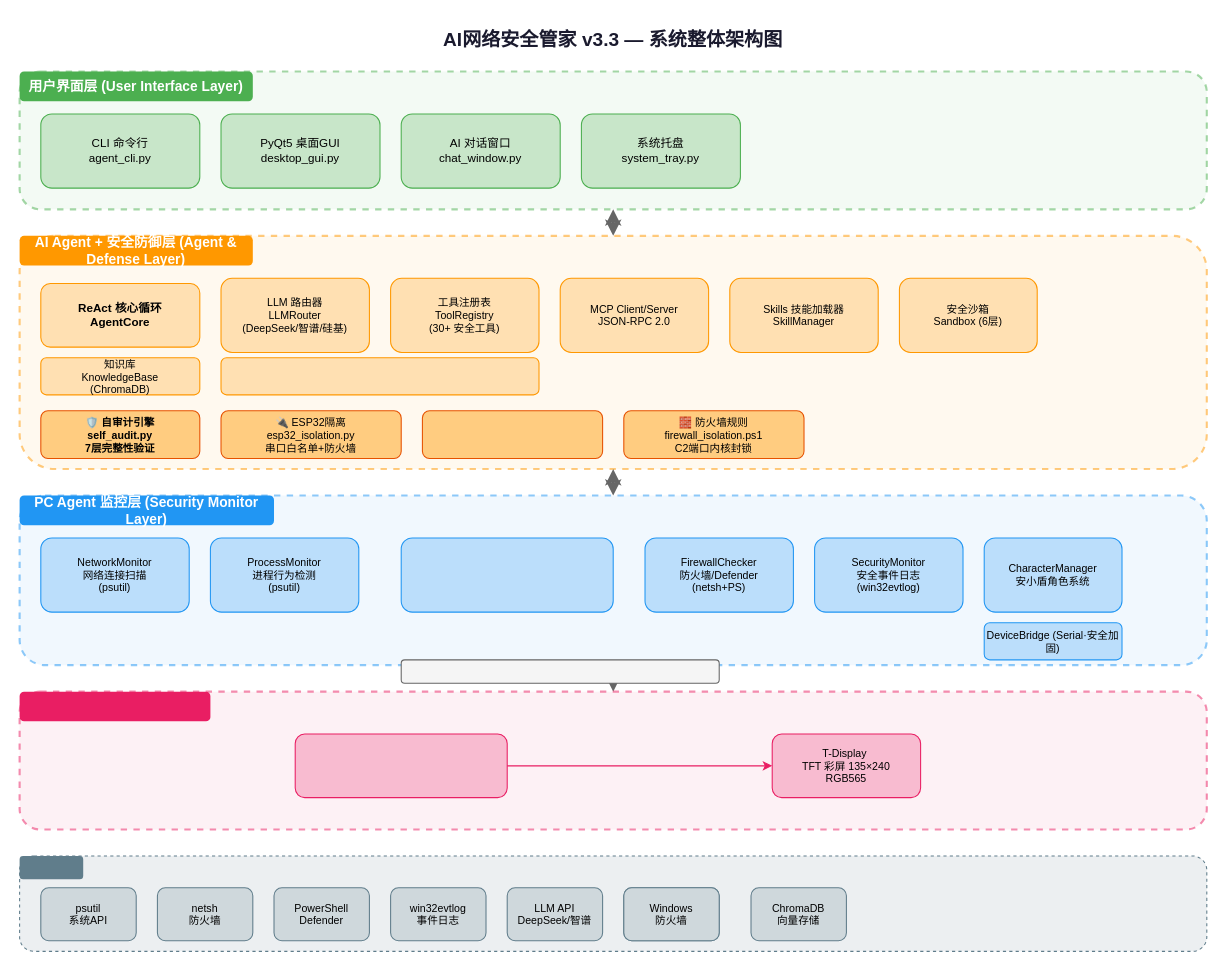
Some shapes in this 1225 by 970 pixel diagram are drawn without their labels. The shapes that lost their labels are listed below. From the top down, each one's box as (x1, y1, x2, y2) in pixels, then its label:
(220, 357, 539, 395): OTX威胁情报 | NVD漏洞库 | Web搜索
(421, 410, 603, 458): 🔍 下载扫描 download_scanner.py Write/Bash Hook拦截
(400, 537, 613, 612): GuardianController 主控制器 (中央调度器) 维护全局 state 字典
(400, 659, 719, 683): ↕ JSON over Serial (115200bps) / WiFi TCP
(19, 691, 210, 721): 硬件层 (Hardware Layer)
(294, 733, 507, 798): ESP32 微控制器 (Xtensa LX6 双核 240MHz)
(19, 855, 83, 879): 数据源
